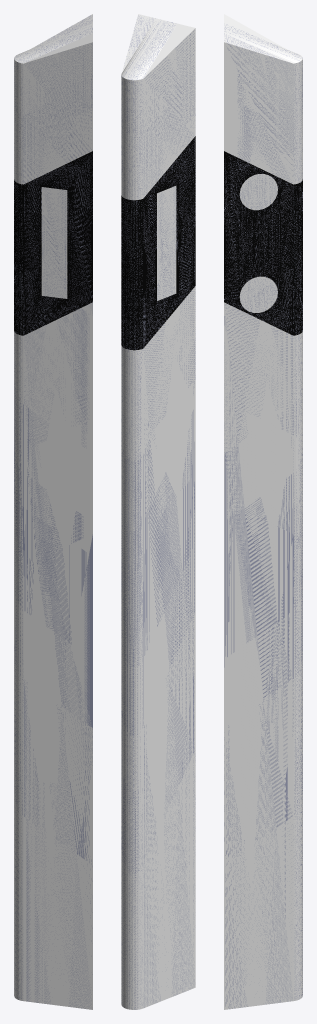
3 views of the same model, side by side, from view 1: azimuth 90°, elevation 25°; view 2: azimuth 150°, elevation 25°; view 3: azimuth 270°, elevation 25° (orthographic).
Visible parts, largest first — view 1: SketchUp (×5); view 2: SketchUp (×6); view 3: SketchUp (×7).
Boxes of the visible parts, <box> form: SketchUp (×5): <box>14,14,92,1009</box>; SketchUp (×6): <box>121,14,195,1009</box>; SketchUp (×7): <box>224,14,302,1009</box>.
Size of the model in its own units: 3.94 by 4.64 by 62.99.
